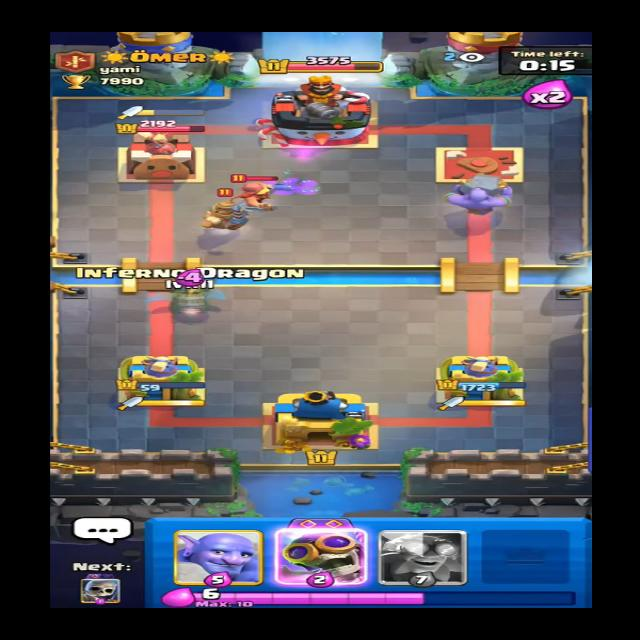Fisherman: (231, 170, 302, 213)
Prince: (203, 189, 260, 237)
